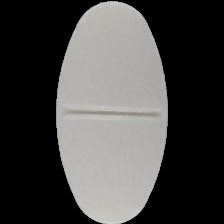0185-0041: (0, 0, 224, 224)
